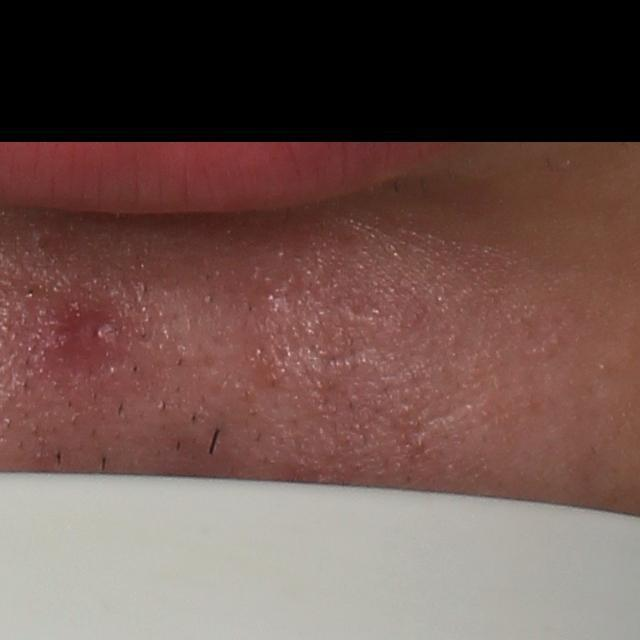papule: (71, 312, 124, 364)
